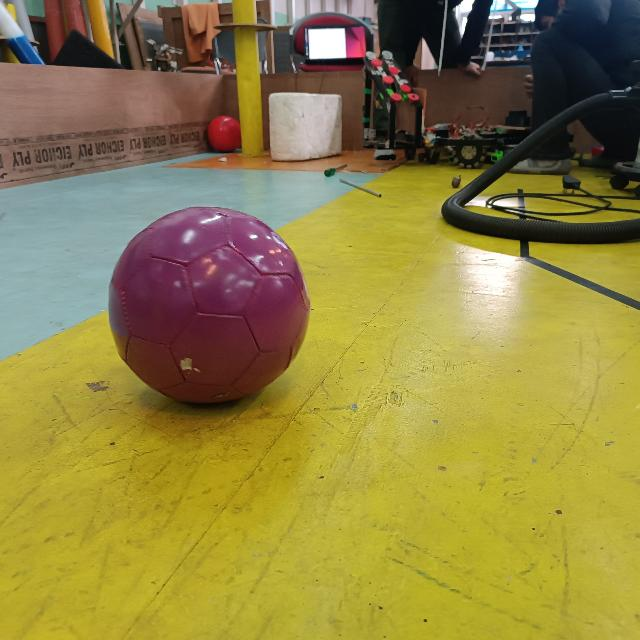P: (104, 202, 316, 412)
R: (205, 114, 245, 152)
